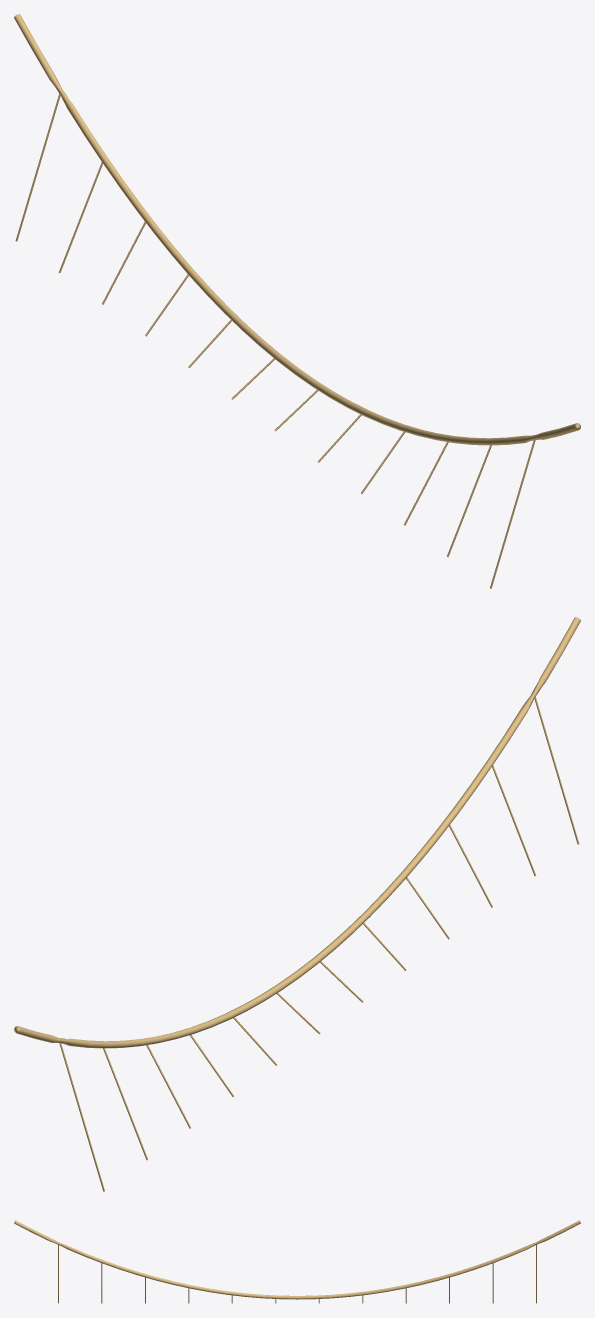
The model's file is SkateCable.obj.
3 renders of one model, top to bottom at view 1: azimuth 30°, elevation 25°; view 2: azimuth 150°, elevation 25°; view 3: azimuth 270°, elevation 25°, orthographic. The views are drawn at different scales.
Visible parts, largest first — view 1: Rope, Hangers; view 2: Rope, Hangers; view 3: Rope, Hangers.
Boxes of the visible parts, bbox=[...] form: Rope: bbox=[14, 14, 580, 445]; Hangers: bbox=[15, 94, 535, 588]; Rope: bbox=[14, 617, 580, 1048]; Hangers: bbox=[59, 697, 579, 1191]; Rope: bbox=[14, 1220, 580, 1299]; Hangers: bbox=[58, 1244, 536, 1303].
Bounding box in the file's own units: 4.76 × 17.59 × 96.32.
